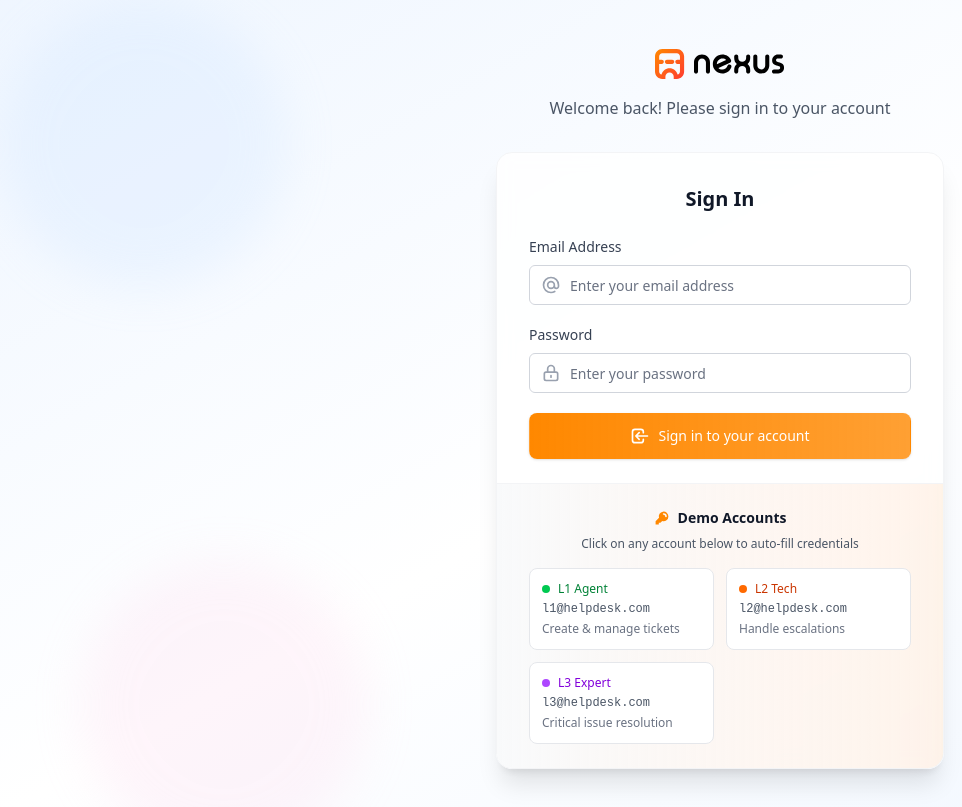
it: LoginPage › should handle demo account buttons
Click the text "L1 Agent" at (583, 589), box [558,581,608,597]
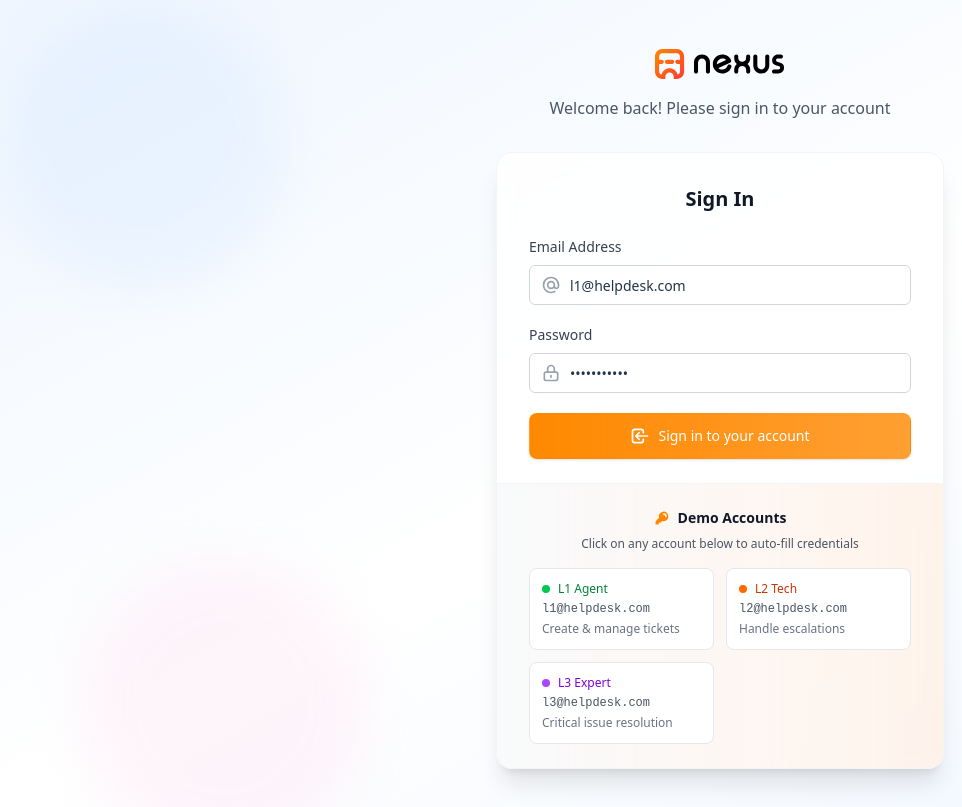
Now the field labelled "Email Address" holds "l1@helpdesk.com", box [529,265,911,305]
Now the password field labelled "Password" holds "password123", box [529,353,911,393]
